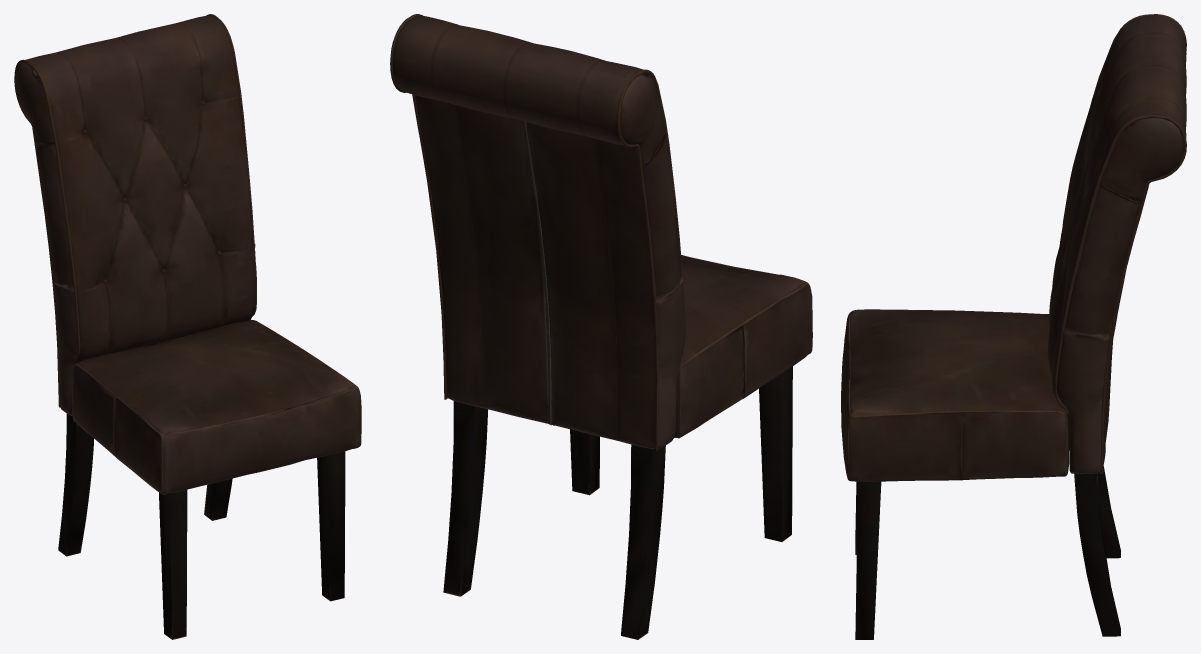
File: dining_chair_02.glb
3 views of the same model, side by side, from view 1: azimuth 30°, elevation 25°; view 2: azimuth 150°, elevation 25°; view 3: azimuth 270°, elevation 25° (orthographic). The views are drawn at different scales.
Visible parts, largest first — view 1: dining_chair_02; view 2: dining_chair_02; view 3: dining_chair_02.
Boxes of the visible parts, x1,y1,x2,y2 form: dining_chair_02: (14, 14, 361, 639); dining_chair_02: (390, 14, 812, 639); dining_chair_02: (841, 14, 1186, 639).
Size of the model in its own units: 0.4336 by 0.9734 by 0.5765.
Materials: 1 (1 with a texture image).
